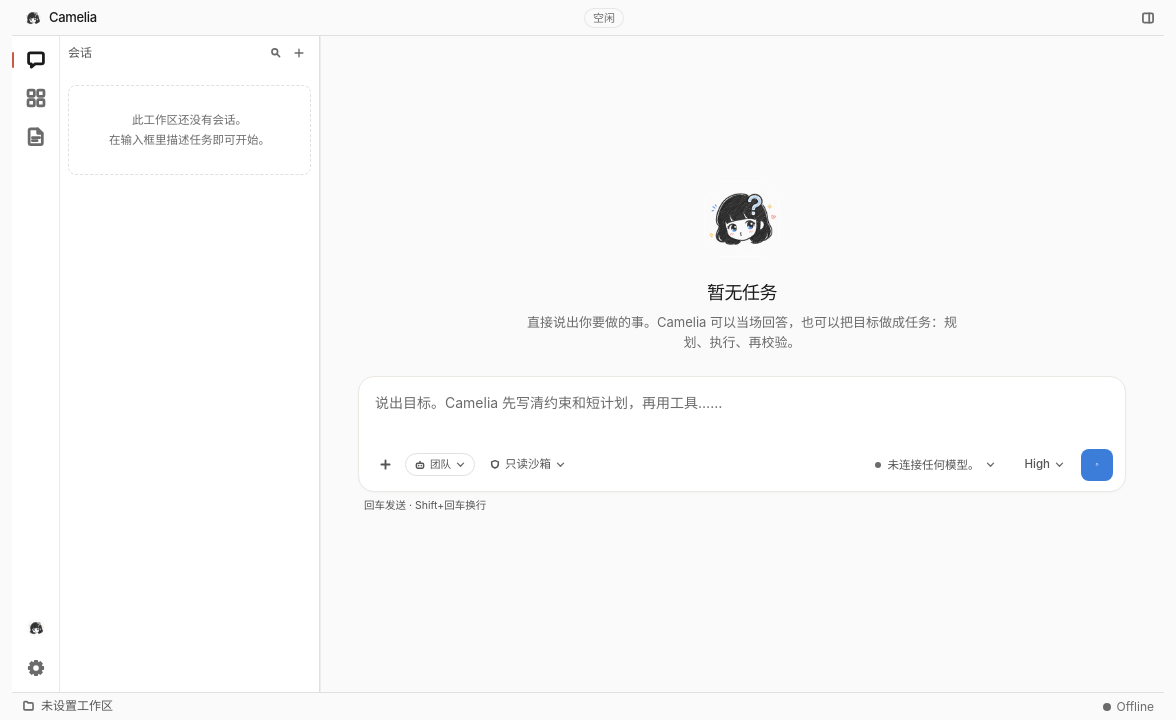
Test: composer chat dispatch › keeps the task projection and plan mode out of a chat reply
Type "hello" into the text box with placeholder "说出目标。Camelia 先写清约束和短计划，再用工具……" at {"x": 742, "y": 414}, box [369,386,1115,442]
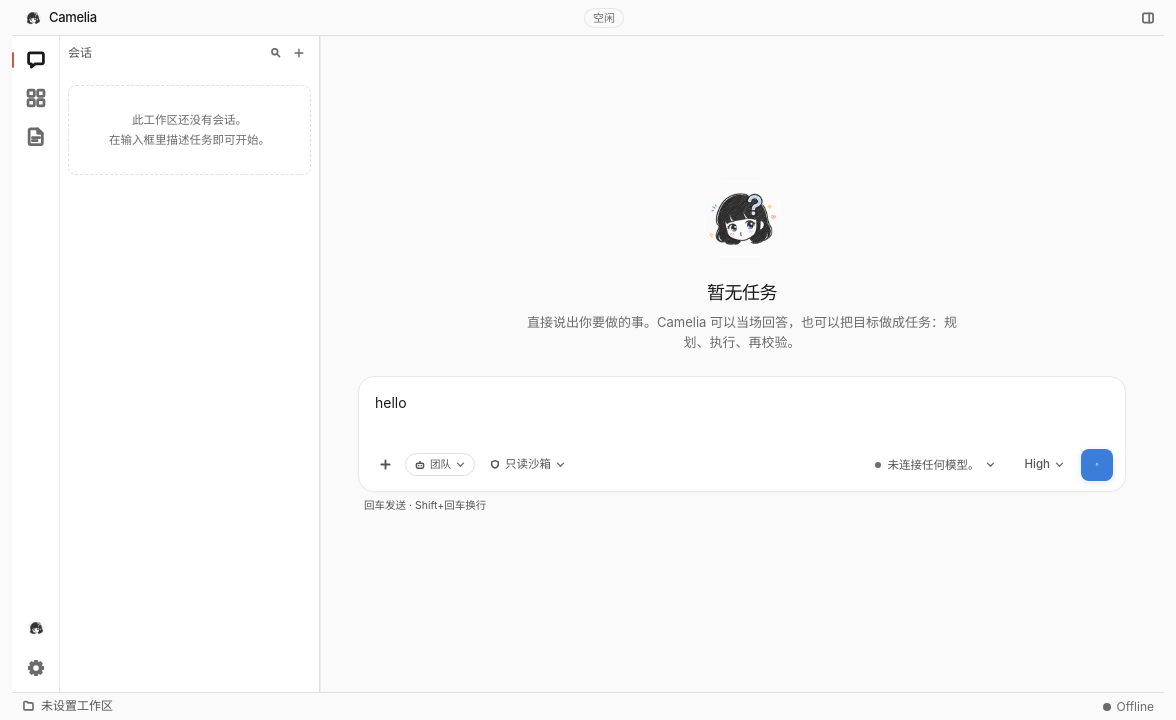
Press Enter in the text box, box [369,386,1115,442]
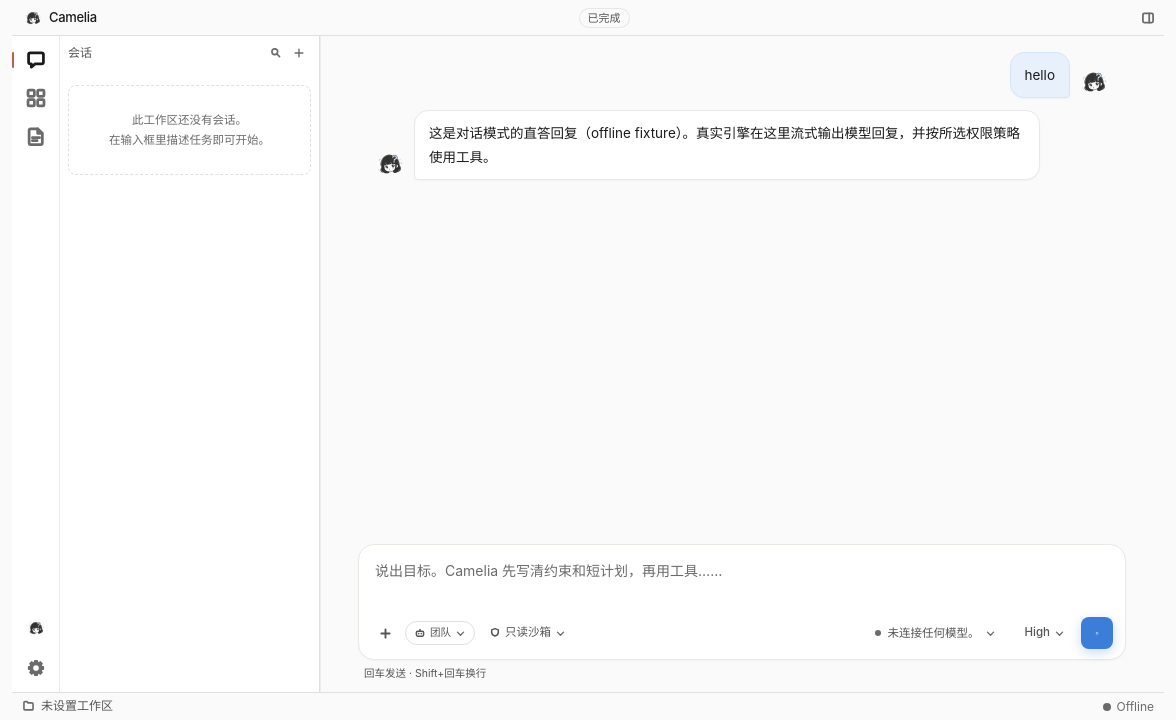
Now the element that starts with "hello" is shown, box [374,52,1110,180]
